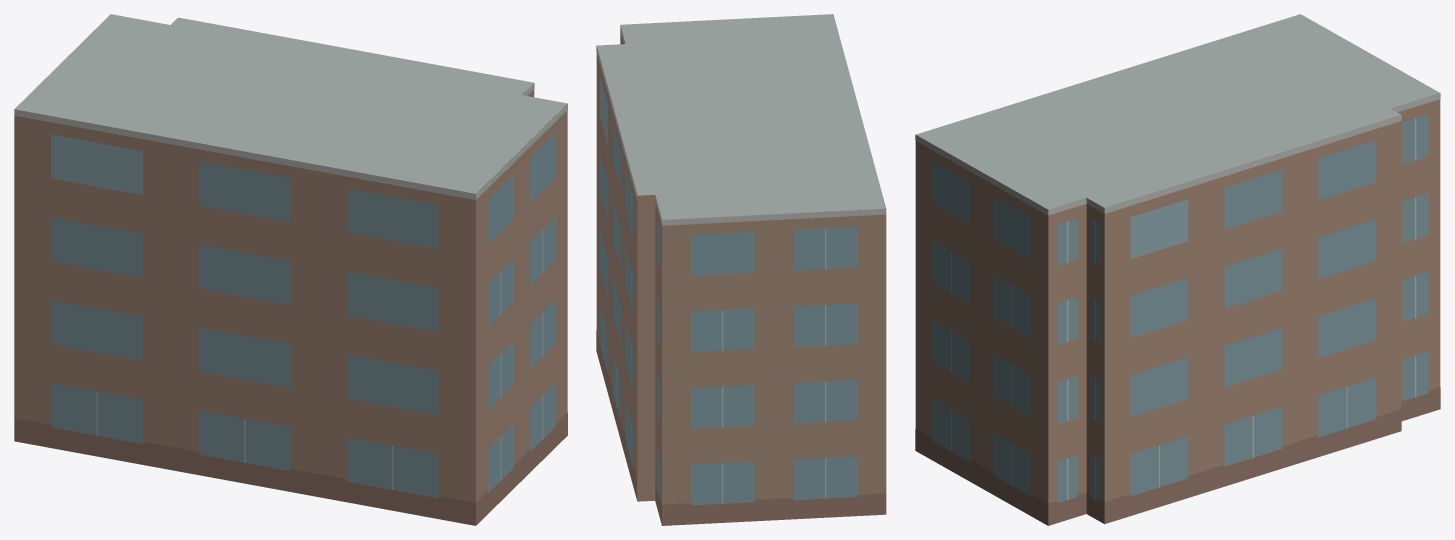
Rendered from survey-upis-33010487.glb.
The picture shows the model from 3 angles, left to right: view 1: azimuth 30°, elevation 25°; view 2: azimuth 150°, elevation 25°; view 3: azimuth 270°, elevation 25°; orthographic projection. The views are drawn at different scales.
Visible parts, largest first — view 1: survey-upis-33010487.tmp; view 2: survey-upis-33010487.tmp; view 3: survey-upis-33010487.tmp.
Boxes of the visible parts, bbox=[...] form: survey-upis-33010487.tmp: bbox=[14, 14, 567, 525]; survey-upis-33010487.tmp: bbox=[596, 14, 886, 525]; survey-upis-33010487.tmp: bbox=[915, 14, 1440, 525].
Bounding box in the file's own units: 17 × 12.8 × 19.26.
